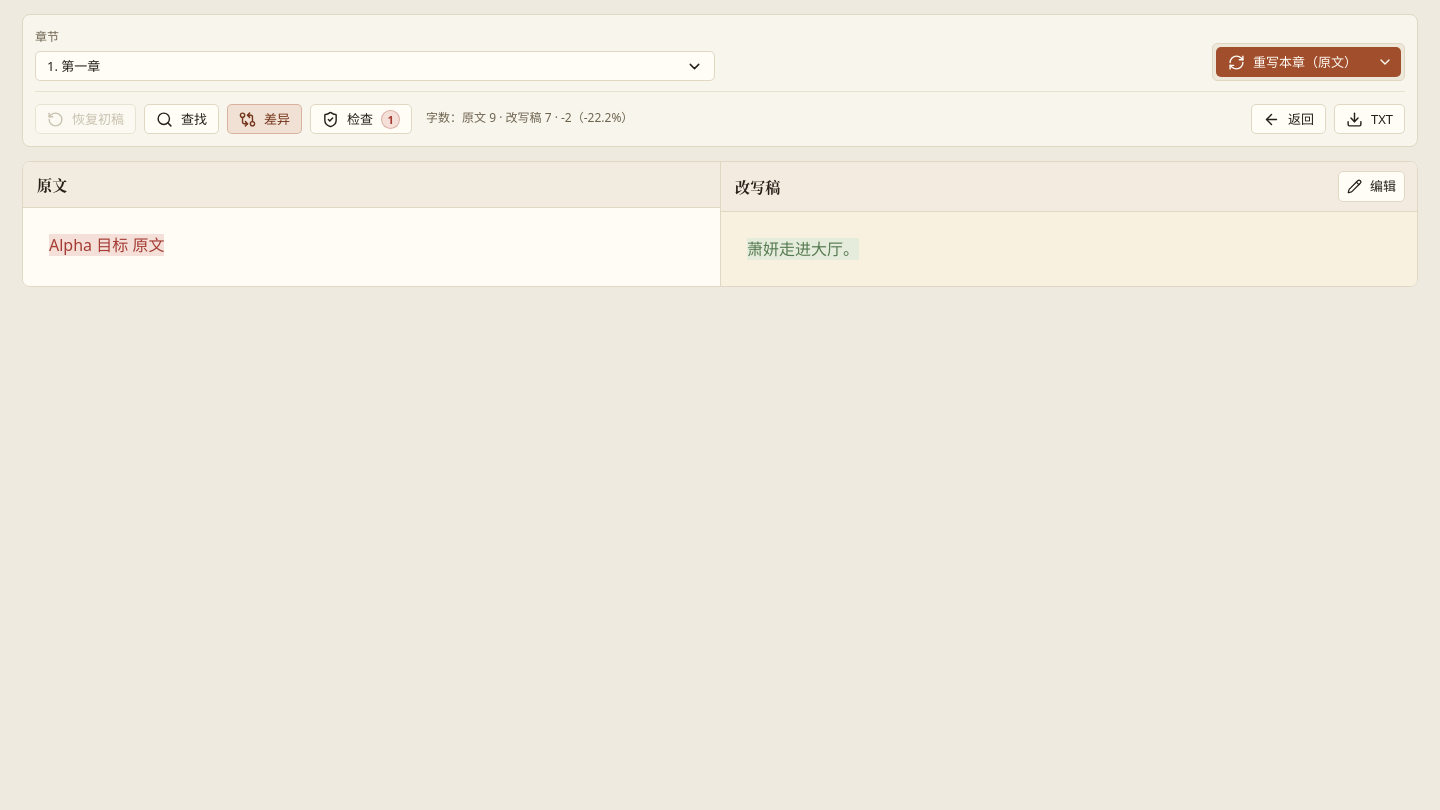
CompareView › opens a compact quality panel with current and full-book counts
The width and height of the screenshot is (1440, 810).
Click the button "检查 1" at (361, 119), box x1=310 y1=104 x2=412 y2=134
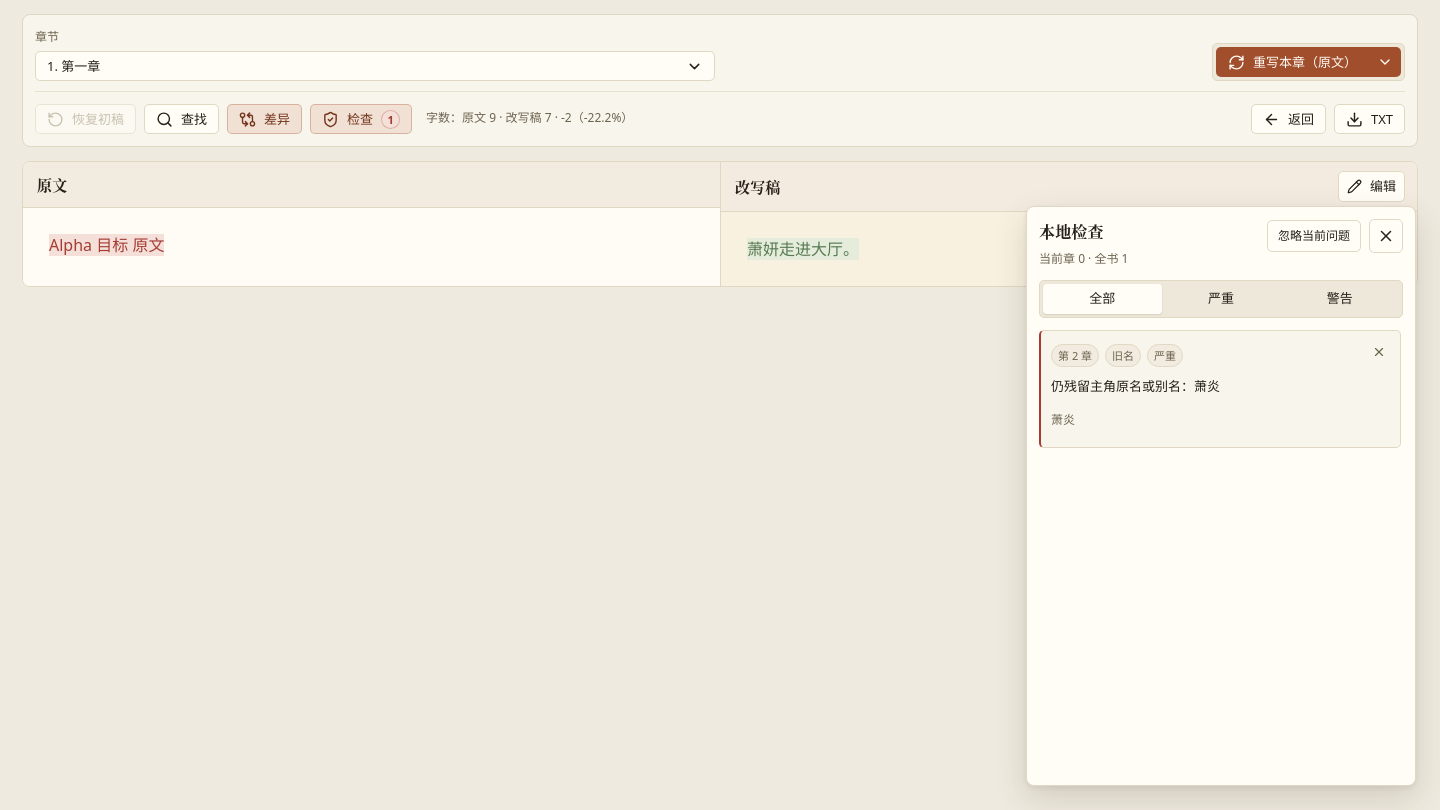
Expected: the element named "本地质量检查" shows "当前章 0 · 全书 1", x1=1026 y1=206 x2=1416 y2=786
Expected: the text "仍残留主角原名或别名：萧炎" is shown, x1=1051 y1=378 x2=1220 y2=396
